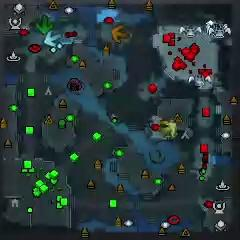x2: (161, 119, 177, 139)
x3: (43, 30, 63, 48)
x4: (34, 15, 54, 34)
x5: (111, 25, 131, 44)
